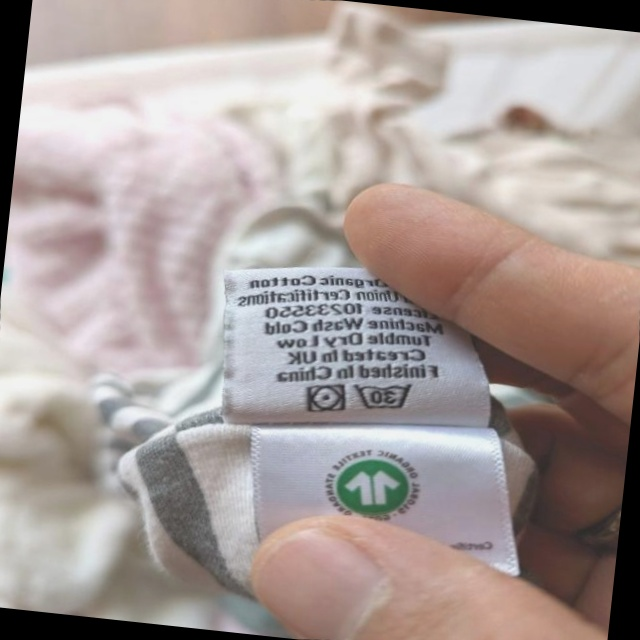30C: (349, 373, 420, 419)
tumble_dry_low: (300, 377, 351, 420)
